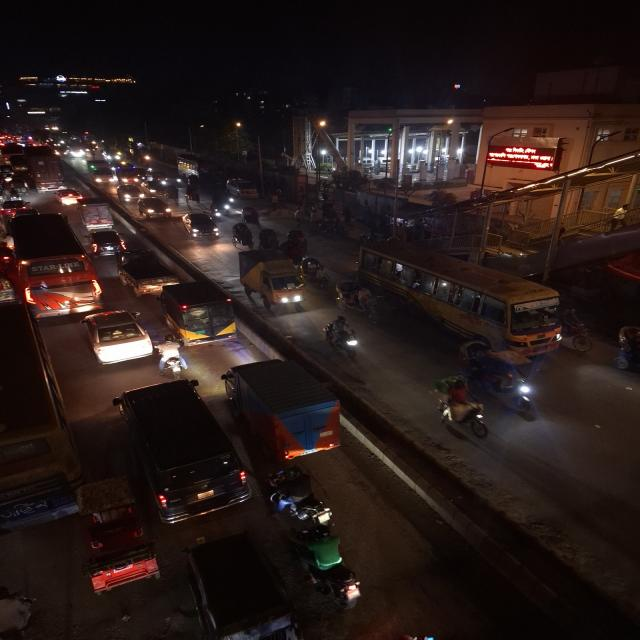bus: (352, 236, 572, 350), (2, 212, 98, 316), (176, 152, 221, 178), (224, 177, 262, 201)
car: (78, 308, 156, 370), (179, 212, 223, 242), (88, 228, 130, 258), (135, 196, 173, 222), (53, 187, 85, 206), (114, 184, 144, 204), (0, 199, 27, 216)
cng: (111, 382, 249, 524), (176, 537, 318, 640), (157, 281, 240, 347)
motorcycle: (287, 504, 370, 610), (323, 313, 364, 363), (611, 320, 640, 384), (150, 334, 188, 376), (8, 188, 24, 202)
pickup_van: (116, 254, 179, 296)
rickshaw: (74, 473, 159, 595), (458, 338, 542, 416), (428, 374, 489, 438), (333, 277, 379, 319), (608, 321, 640, 381), (301, 254, 330, 288), (230, 221, 255, 251), (285, 227, 311, 251), (0, 270, 16, 308), (255, 227, 281, 250), (238, 206, 264, 228)
truck: (220, 359, 352, 463), (238, 250, 308, 314), (27, 151, 66, 192), (78, 199, 118, 231), (84, 160, 116, 186)
